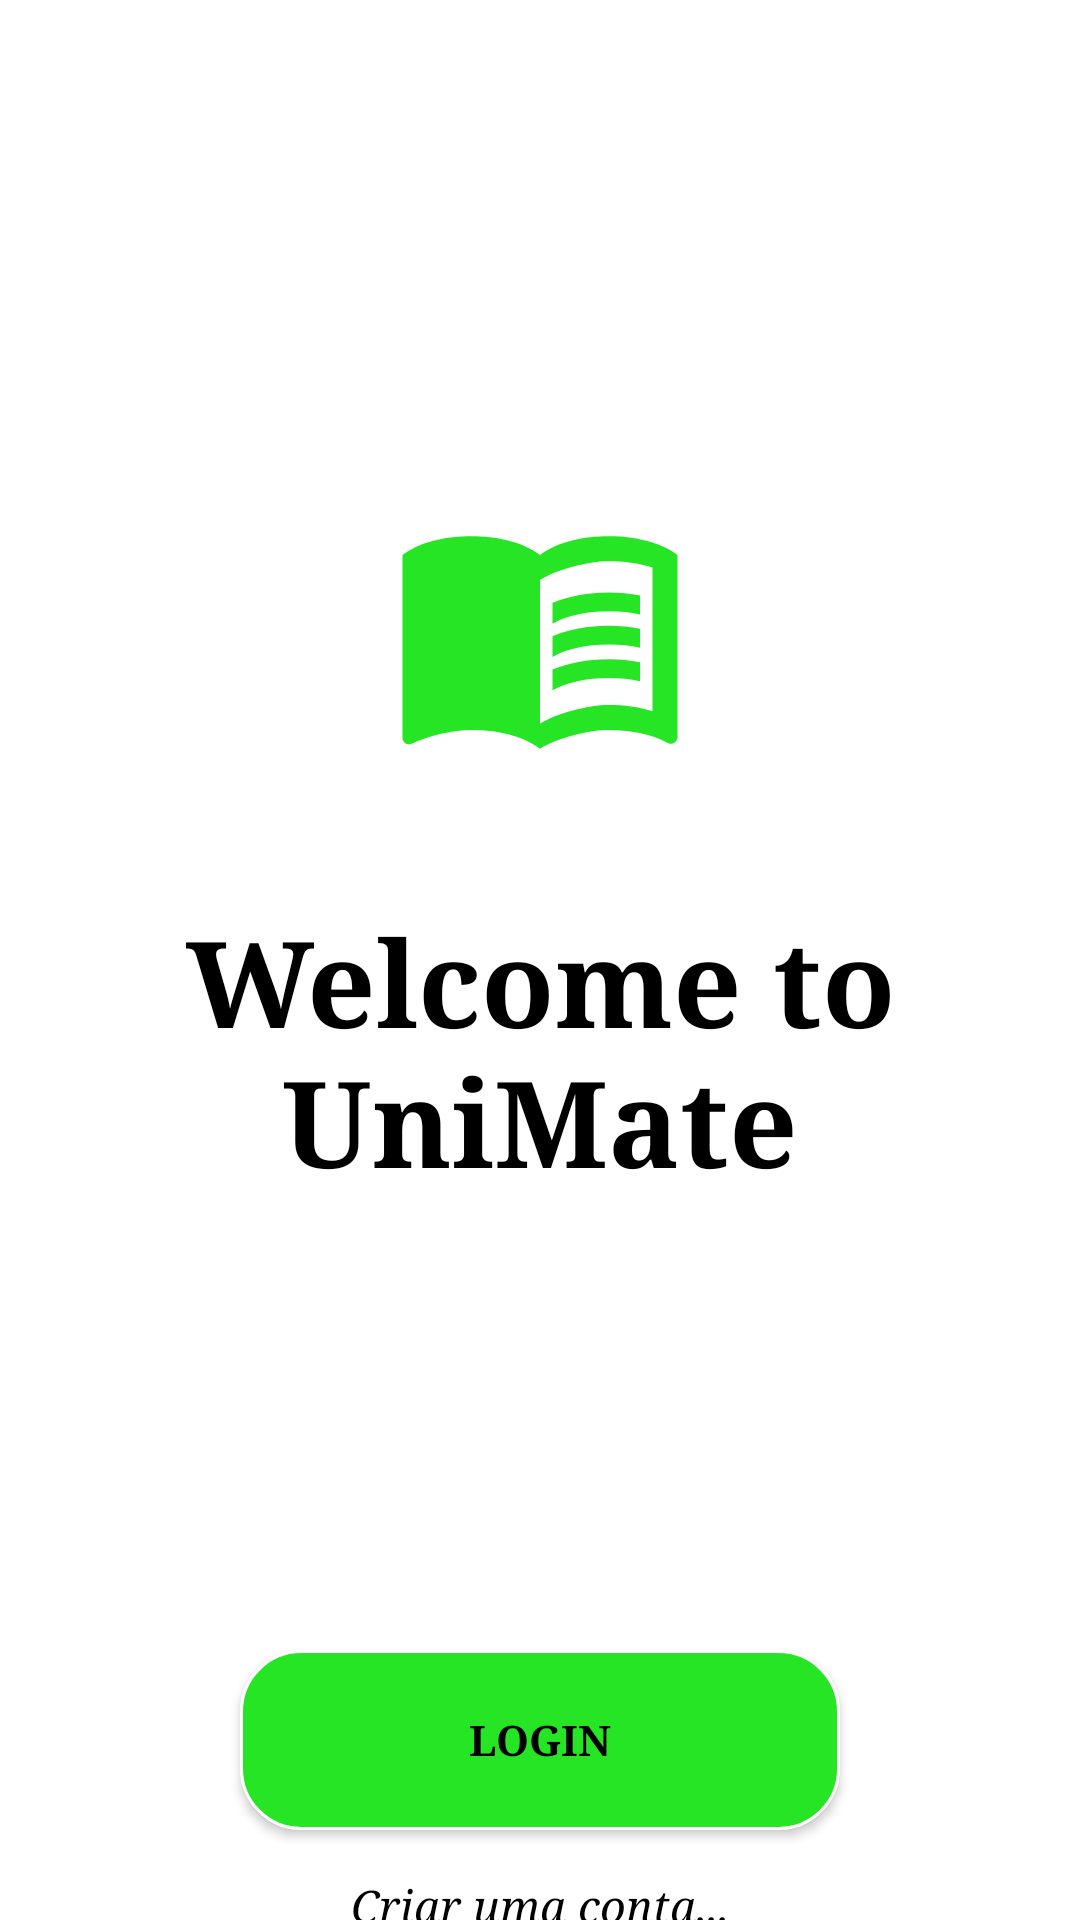

Where icons sit on this 1080px×1920px app screen, as (x1, y1, x2, y2):
book: (402, 536, 678, 749)
